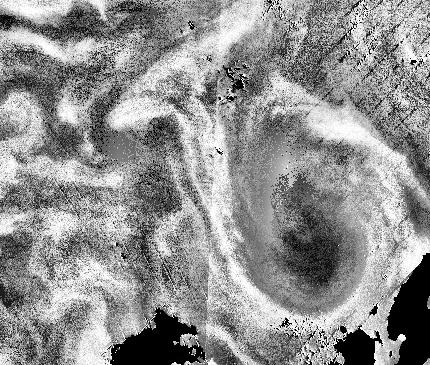CE: (189, 85, 414, 341)
